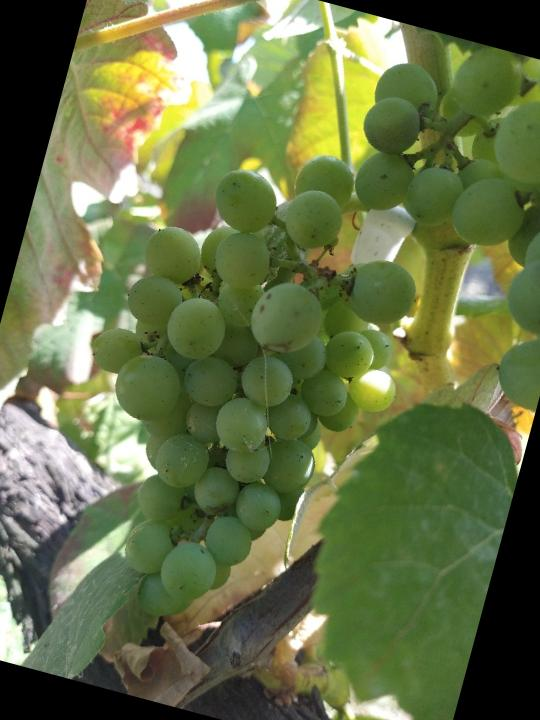grape: (26, 107, 449, 664)
